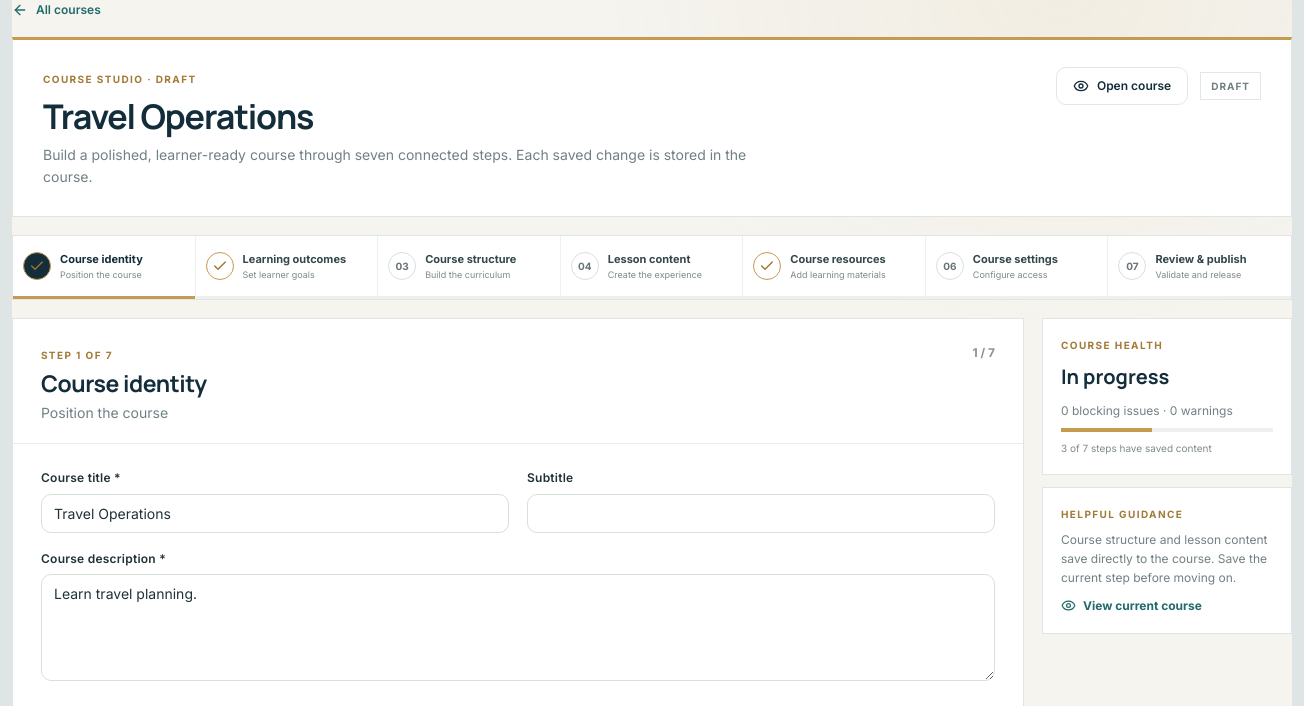
Test case: CourseBuilderPage › exposes seven steps and persists resource metadata through the resource API
This screenshot has width=1304, height=706.
Expected: the heading "Travel Operations" is shown, [43,93,313,139]
Expected: the button "Course identity Position the course" is shown, [13,236,196,299]
Click the button "Course resources Add learning materials".
click(835, 267)  # box [743,236,926,299]
(page scrolled)
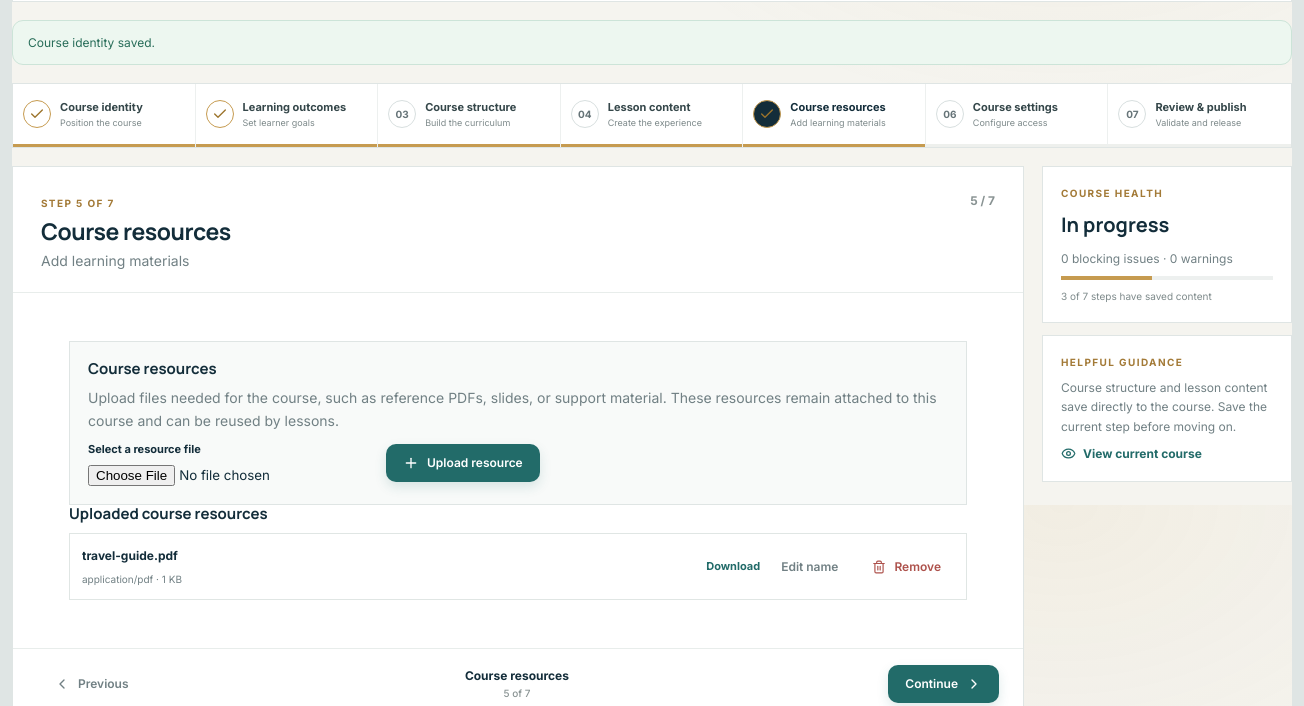
Now the text "travel-guide.pdf" is shown, box [82,548,178,564]
Click the button "Edit name".
click(810, 566)  # box [768,548,851,586]
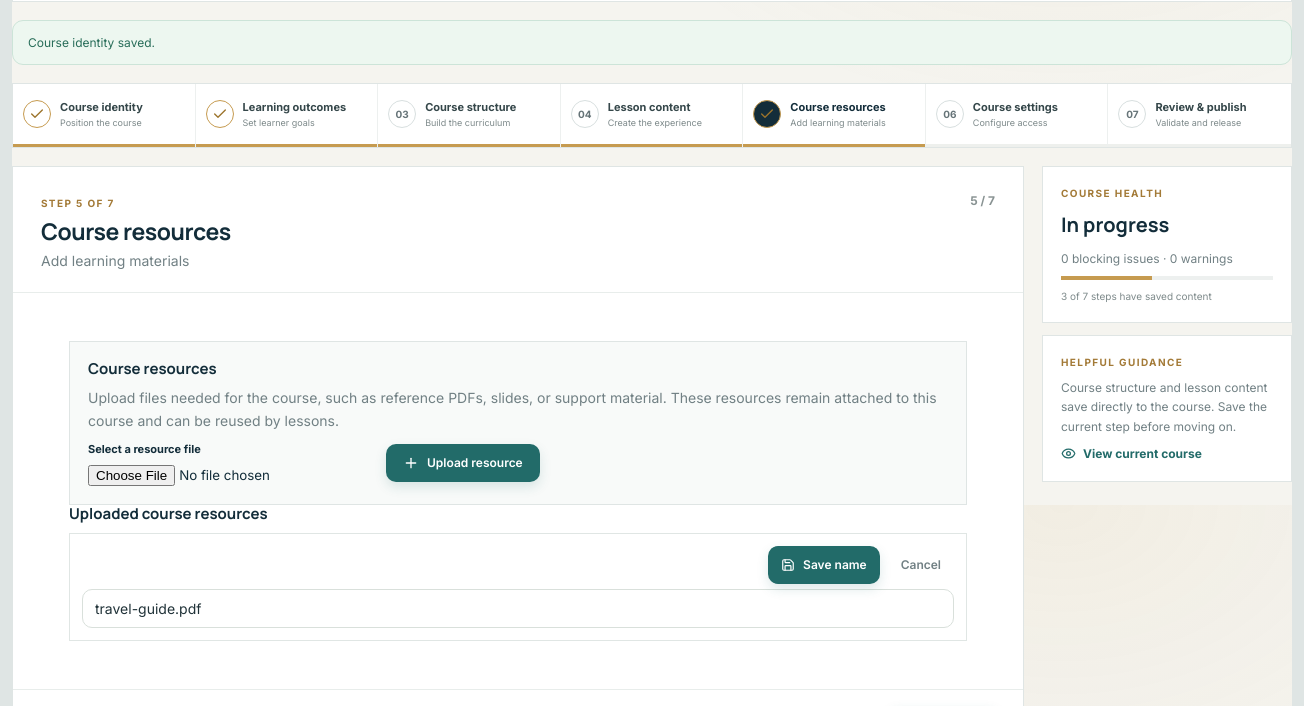
Replace the text in the field named "Resource name for travel-guide.pdf" with "Updated guide.pdf" at point(518, 609), box [82,590,954,628]
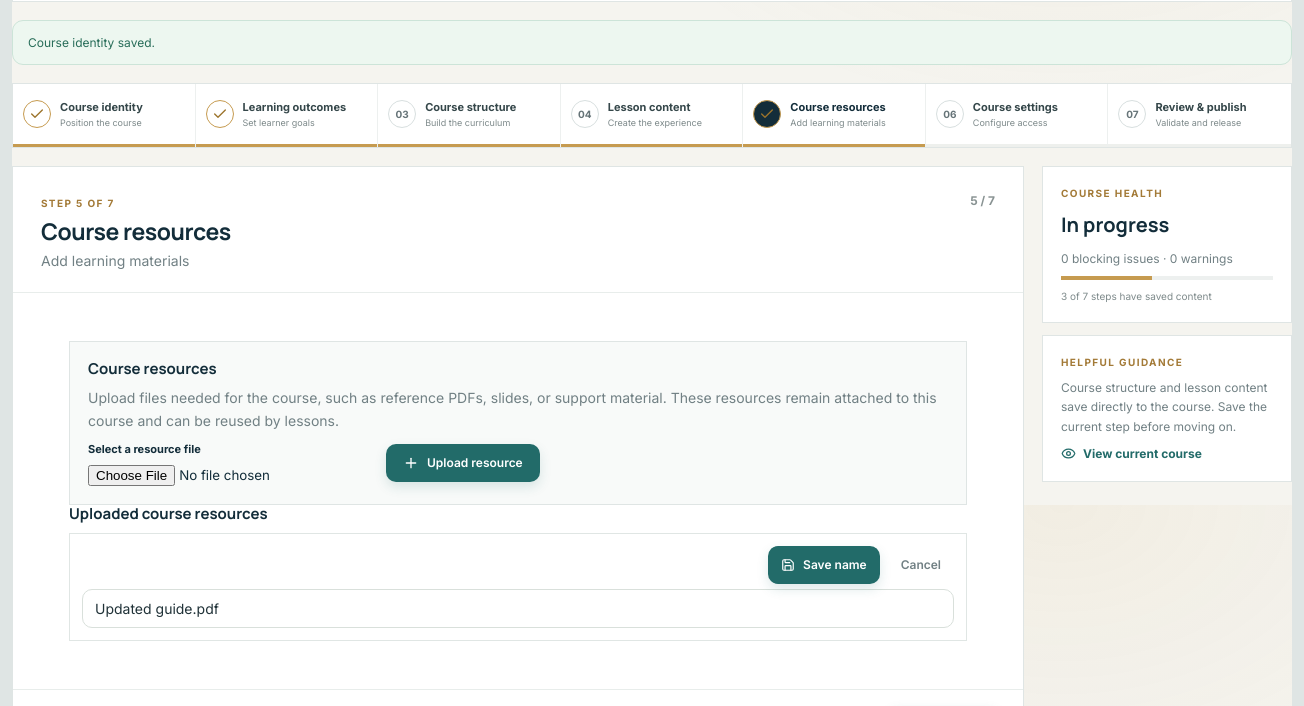
Click the button "Save name".
click(824, 566)  # box [768,546,880,584]
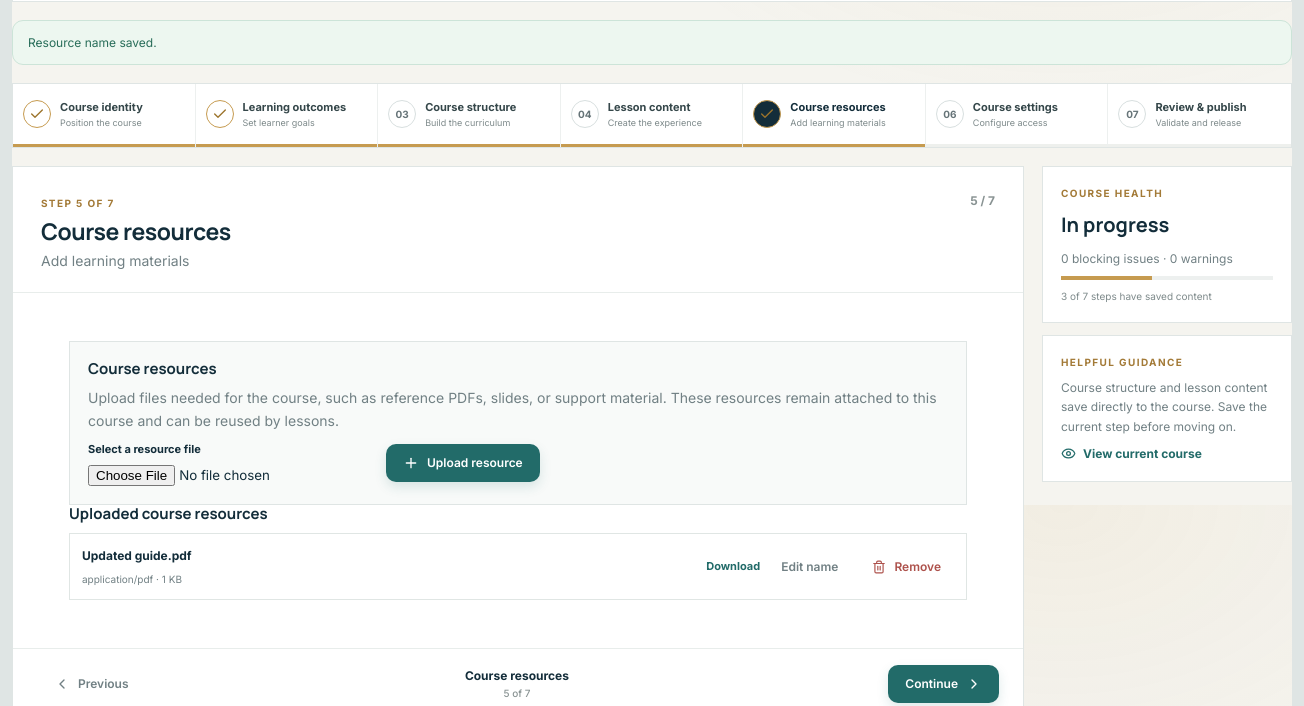
Now the text "Updated guide.pdf" is shown, box [82,548,192,564]
